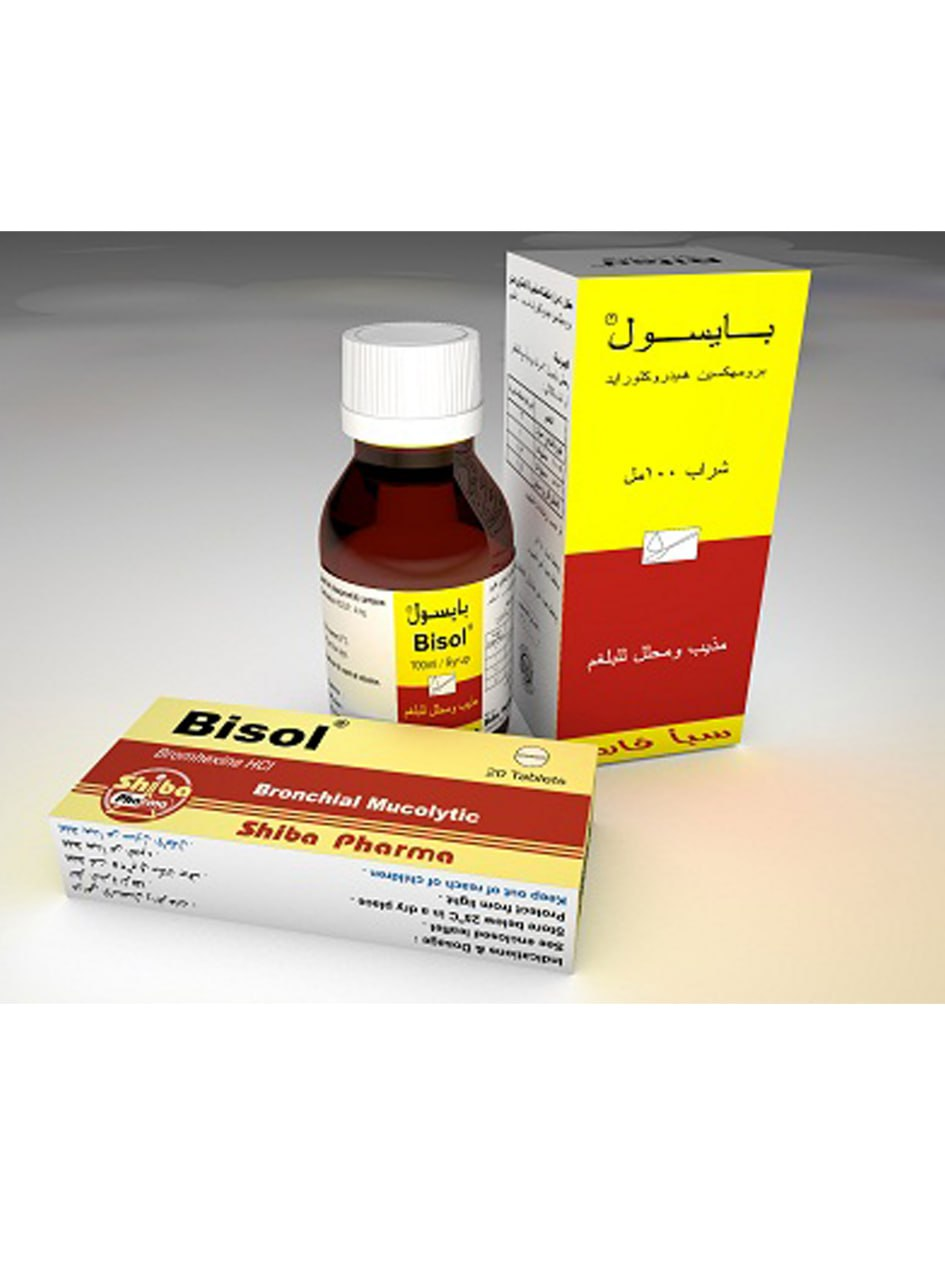Medicine: (500, 250, 797, 790), (50, 690, 613, 970), (303, 303, 537, 730)
